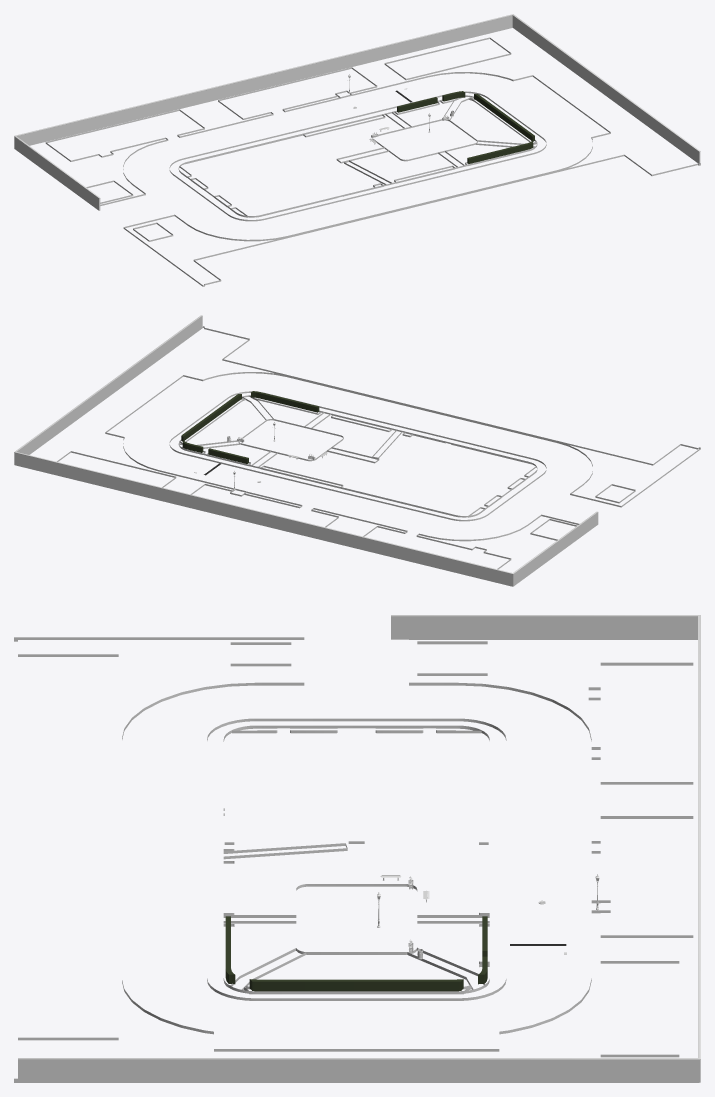
File: cell_0_0.glb
3 views of the same model, one above another, from view 1: azimuth 30°, elevation 25°; view 2: azimuth 150°, elevation 25°; view 3: azimuth 270°, elevation 25° (orthographic). The views are drawn at different scales.
Visible parts, largest first — view 1: cell_0_0; view 2: cell_0_0; view 3: cell_0_0.
Boxes of the visible parts, x1,y1,x2,y2 form: cell_0_0: [14, 14, 700, 286]; cell_0_0: [14, 315, 700, 586]; cell_0_0: [14, 615, 700, 1082].
Size of the model in its own units: 104 by 4.21 by 68.16.
